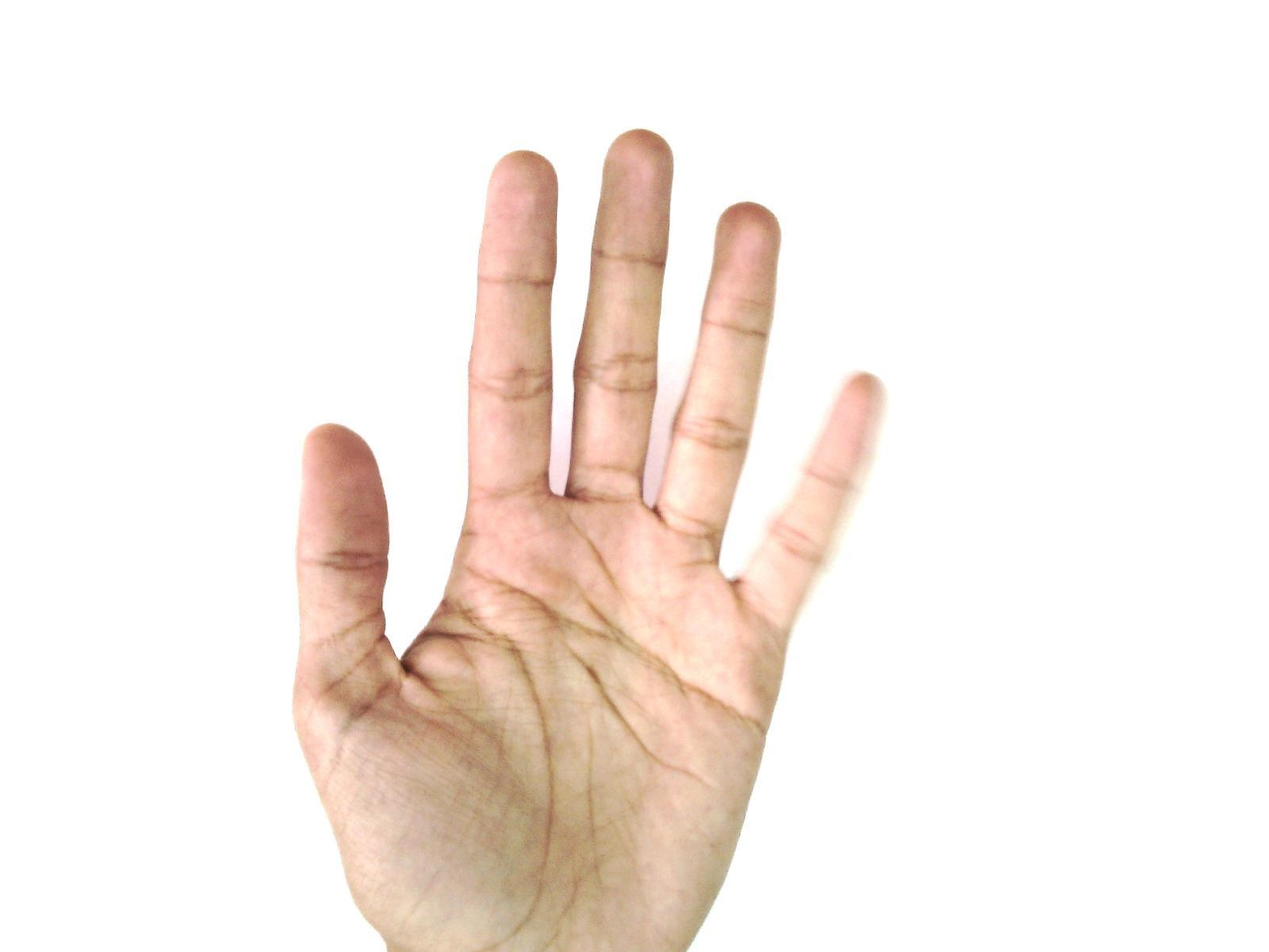open_palm: (289, 128, 890, 951)
